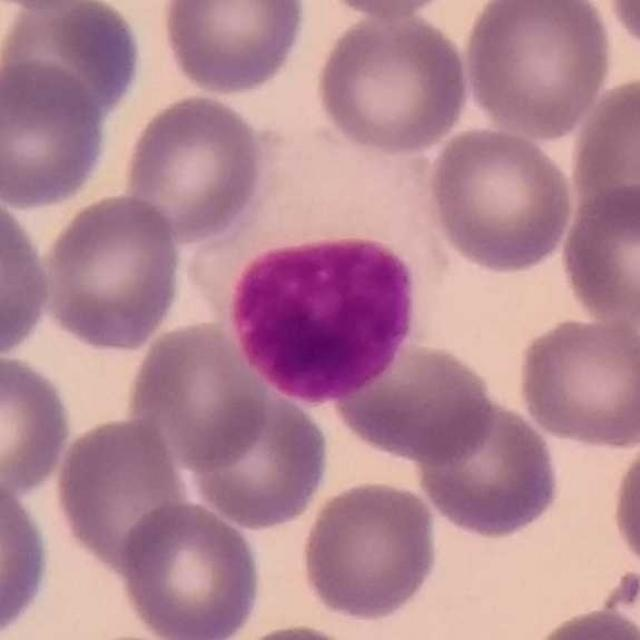Lymphocyte: (193, 119, 455, 404)
RBC: (37, 190, 187, 354), (311, 7, 473, 158), (122, 317, 273, 473), (423, 124, 577, 276), (118, 90, 269, 245), (324, 338, 500, 468), (412, 393, 564, 542), (51, 413, 189, 575), (459, 0, 615, 141), (184, 385, 332, 532), (296, 476, 442, 624), (116, 497, 264, 640), (0, 0, 146, 127), (513, 313, 640, 451), (0, 57, 111, 210), (157, 0, 310, 98), (555, 179, 640, 331), (566, 71, 640, 234), (0, 348, 76, 501), (0, 187, 56, 362), (0, 469, 53, 640), (607, 426, 640, 580), (521, 605, 640, 640), (313, 0, 466, 20), (221, 620, 373, 640), (600, 0, 640, 63)
